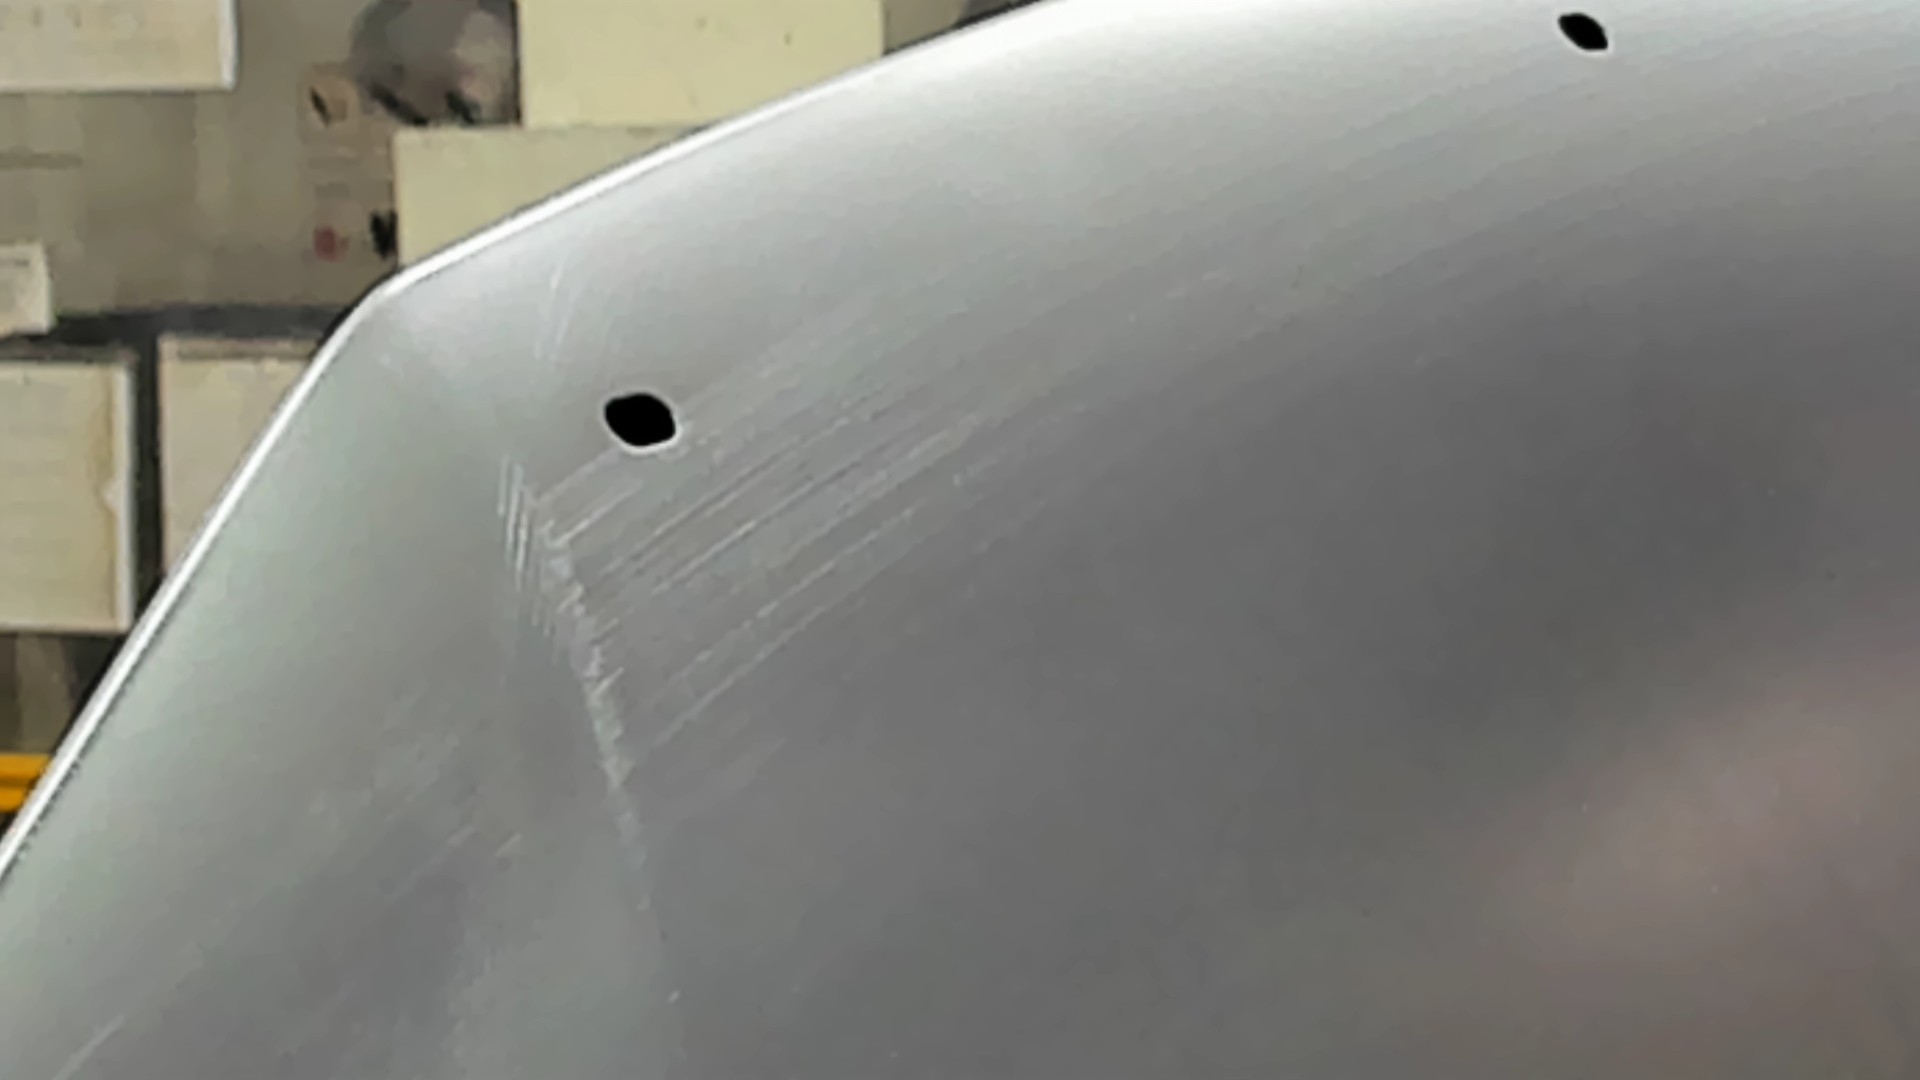amorfo: (593, 378, 686, 459), (1536, 1, 1625, 70)
capo: (758, 142, 1920, 1080)
